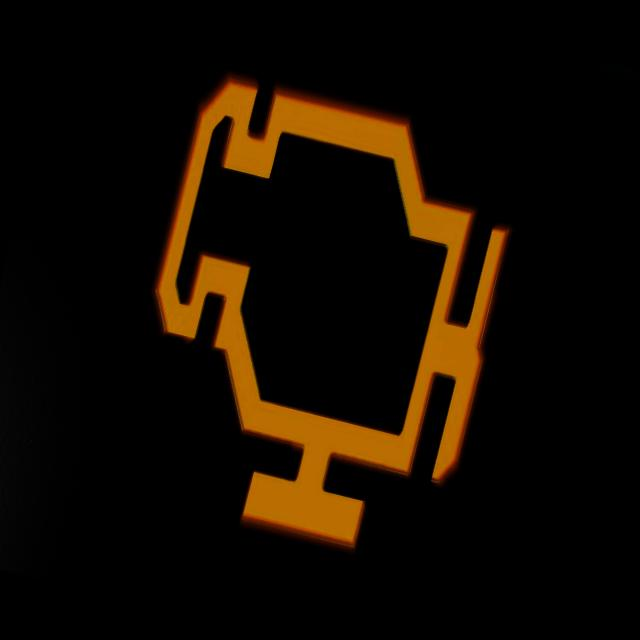kontrolka: (73, 46, 557, 616)
